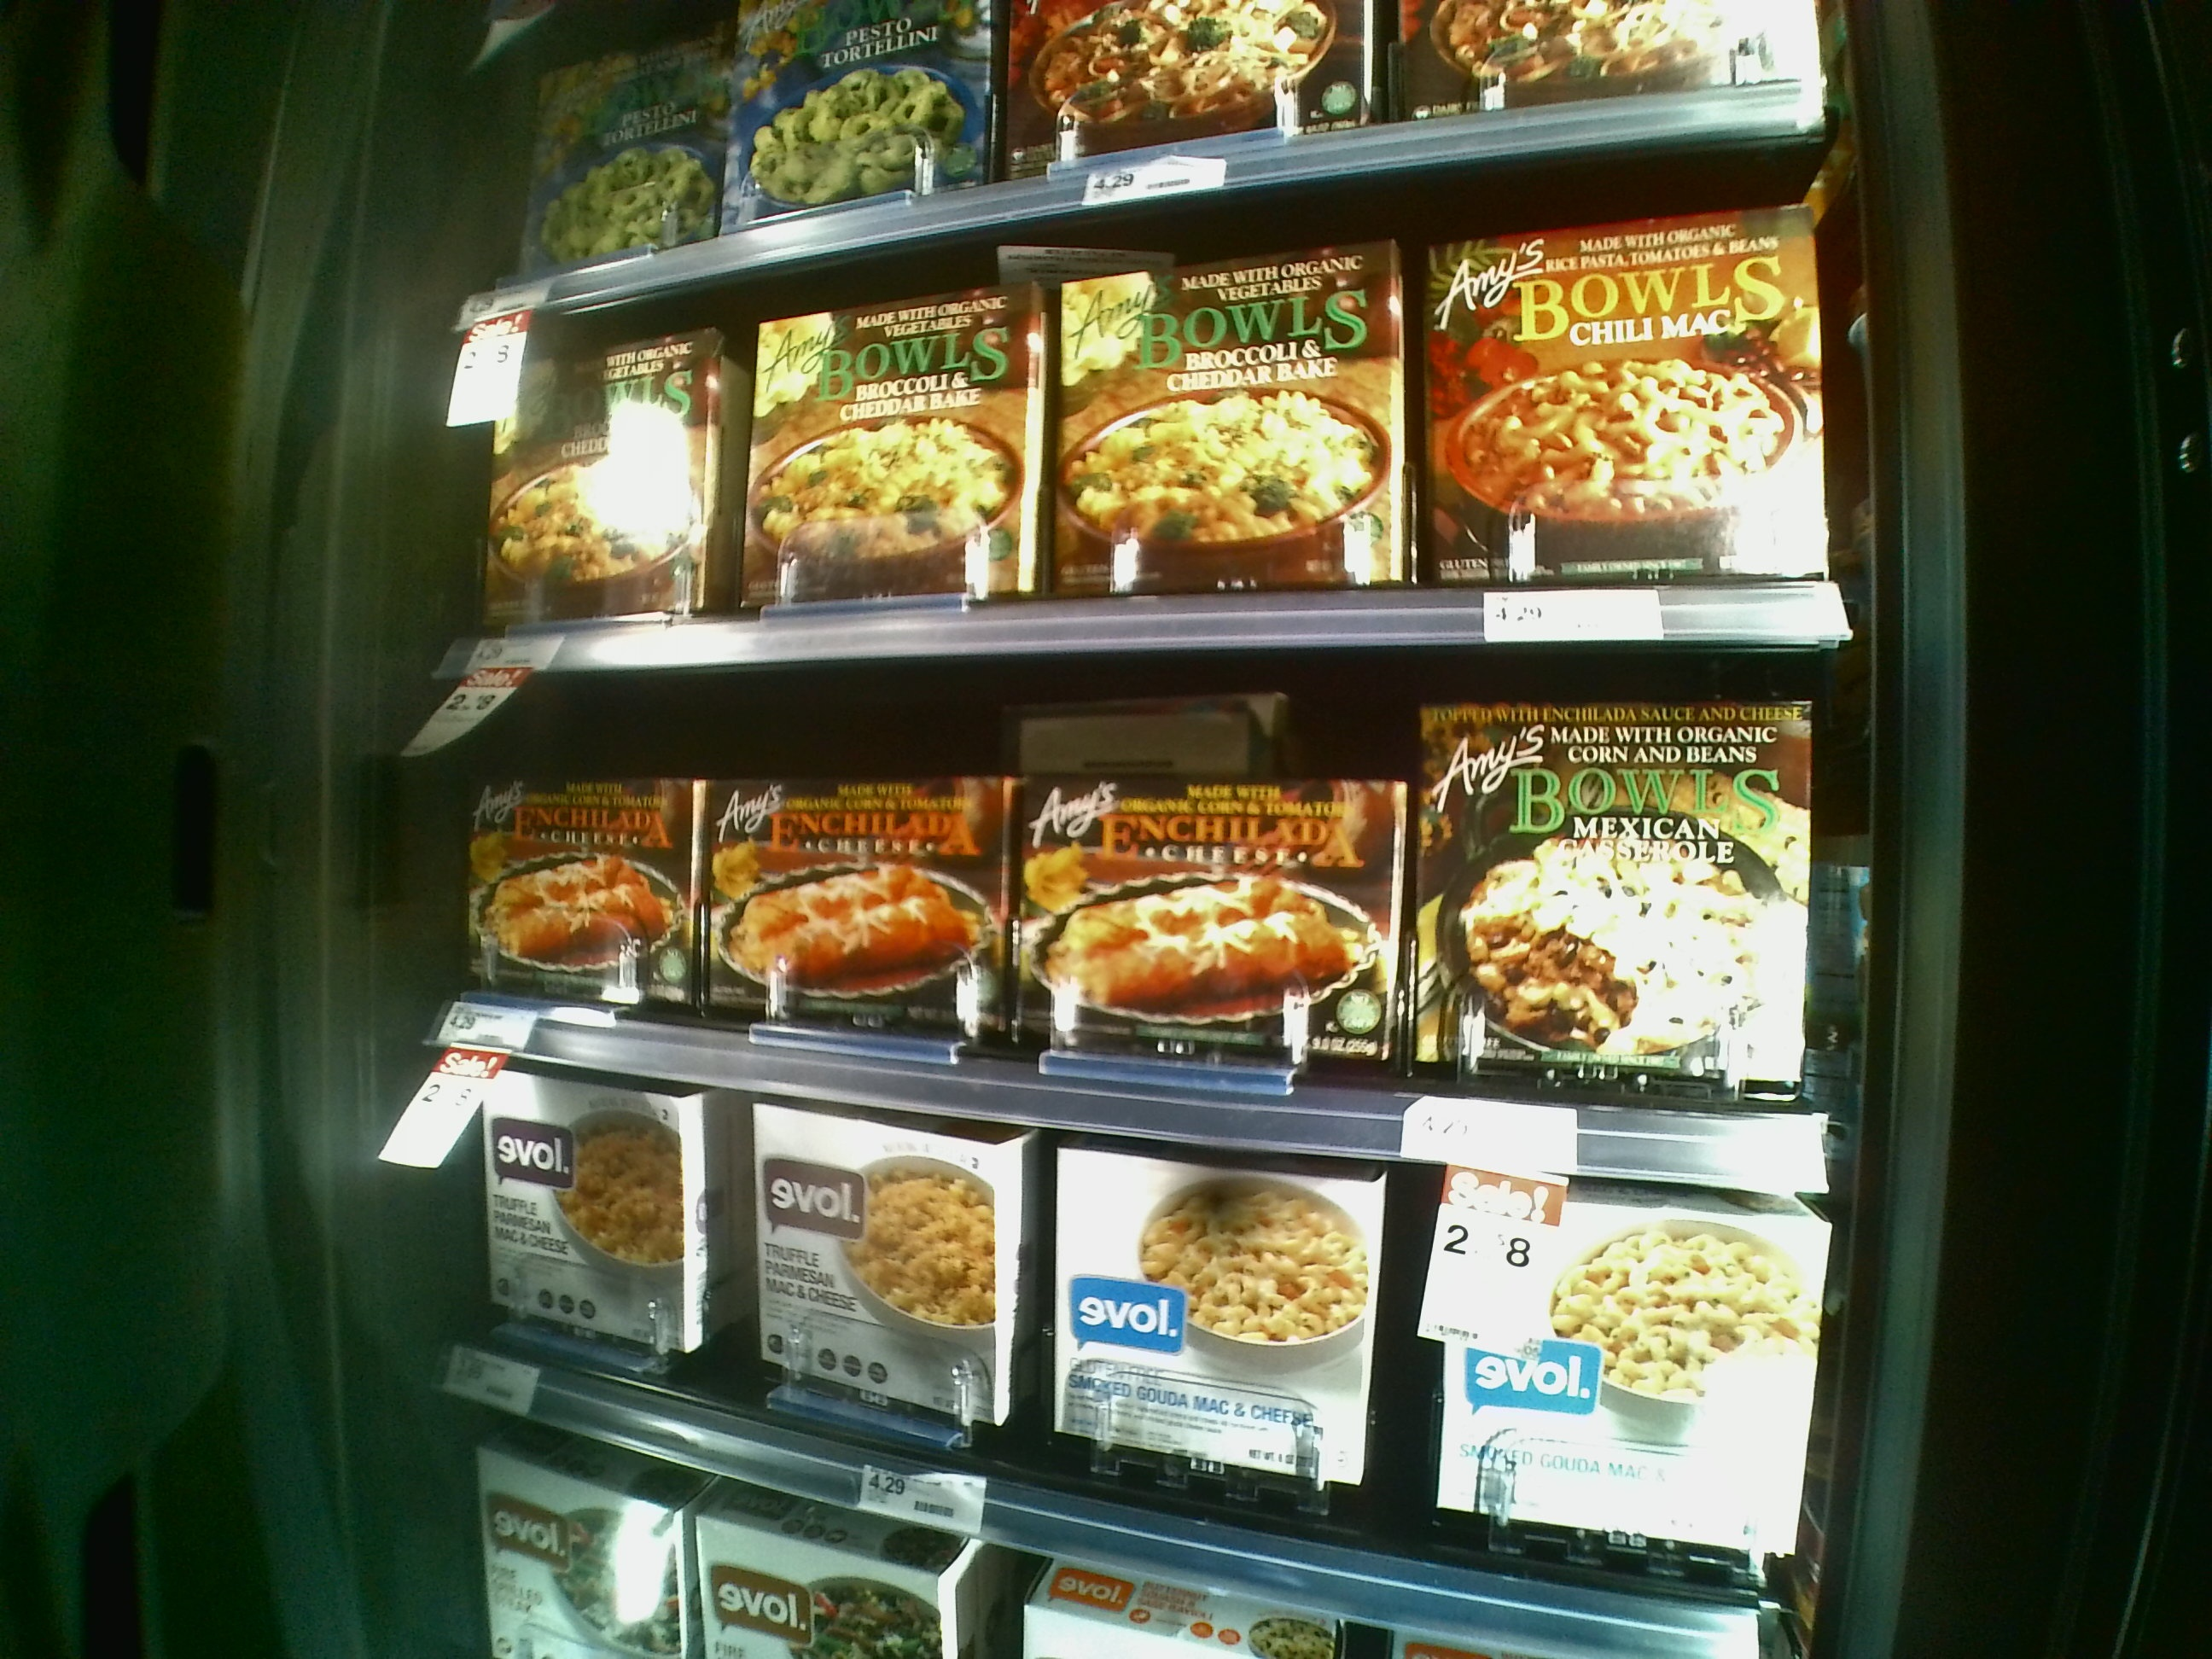shelf: (458, 232, 1881, 681), (444, 669, 1860, 1103), (462, 1093, 1843, 1513)
